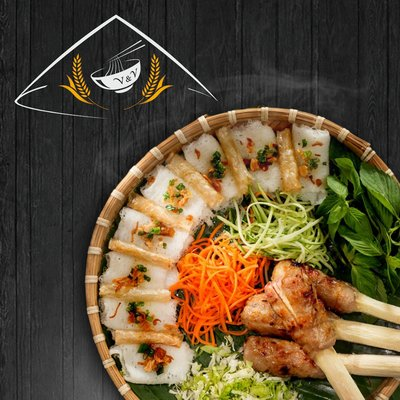sushi: (83, 104, 400, 400)
